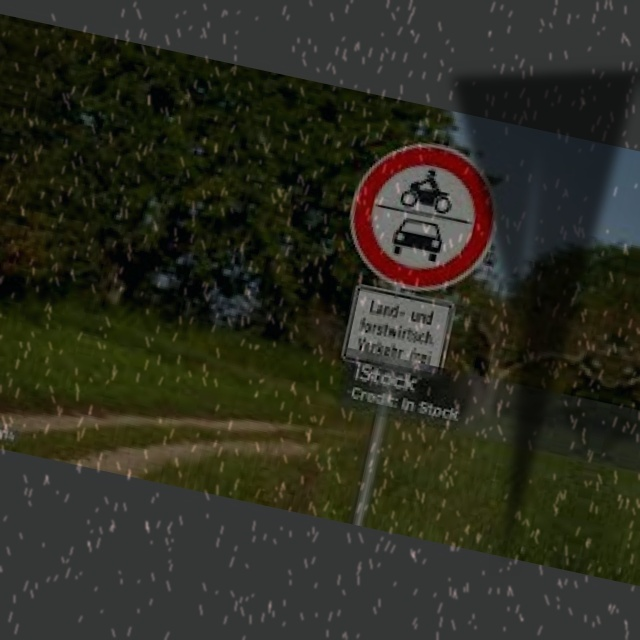All_Motor_Vehicles_Prohibited: (331, 125, 510, 304)
